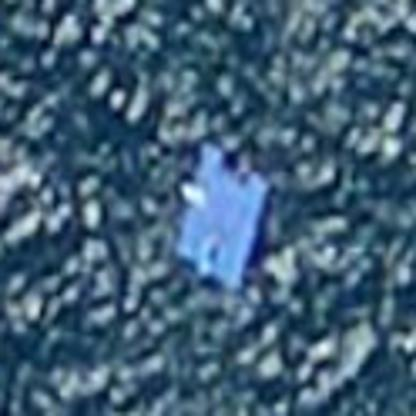ship: (164, 131, 278, 298)
